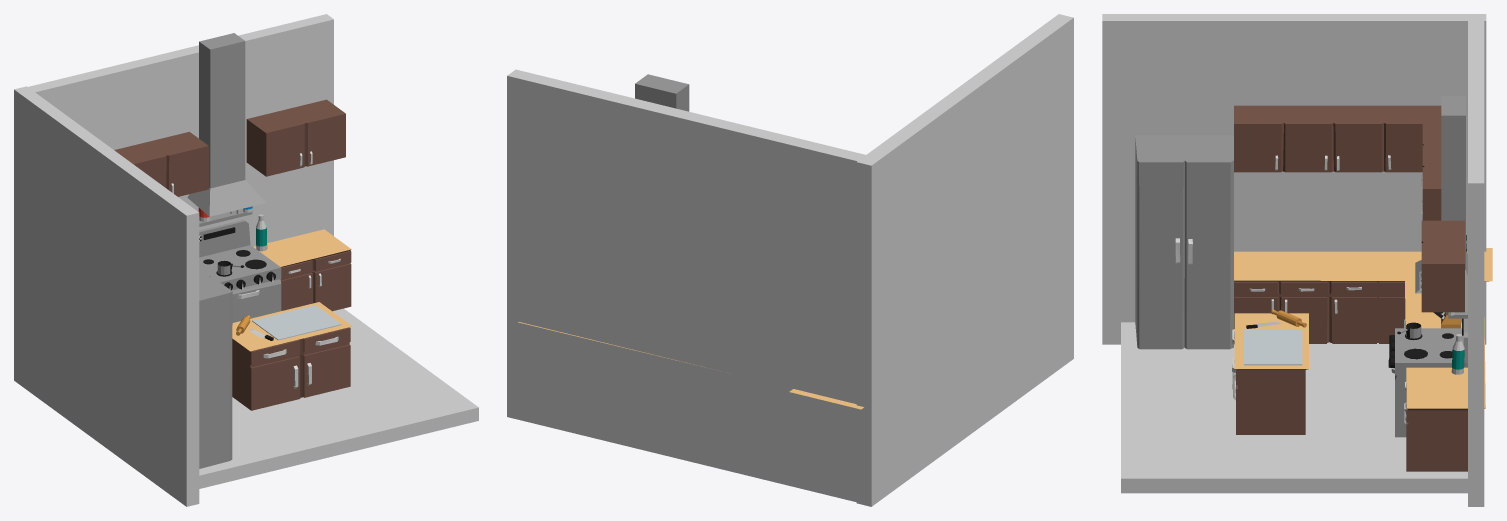
Rendered from Jerad Bitner's polykitchen.fbx.
3 renders of one model, left to right at view 1: azimuth 30°, elevation 25°; view 2: azimuth 150°, elevation 25°; view 3: azimuth 270°, elevation 25°, orthographic. The views are drawn at different scales.
Visible parts, largest first — view 1: mesh_9585808, mesh_1810159463, mesh_107145946, mesh_1348253054, mesh_1000109285, mesh_536980032, mesh_384672652, mesh_1142142446, mesh_900006215, mesh_1955243732, mesh_1999118543; view 2: mesh_1810159463, mesh_9585808, mesh_1000109285; view 3: mesh_9585808, mesh_107145946, mesh_536980032, mesh_1913738476, mesh_2142097961, mesh_1810159463, mesh_1142142446, mesh_1348253054, mesh_384672652, mesh_1000109285, mesh_900006215, mesh_1999118543 (+2 smaller).
Boxes of the visible parts, x1,y1,x2,y2 form: mesh_9585808: [14, 86, 199, 506]; mesh_1810159463: [28, 14, 333, 246]; mesh_107145946: [199, 308, 478, 488]; mesh_1348253054: [232, 302, 352, 410]; mesh_1000109285: [187, 33, 265, 216]; mesh_536980032: [199, 267, 232, 468]; mesh_384672652: [246, 99, 345, 176]; mesh_1142142446: [253, 229, 351, 311]; mesh_900006215: [199, 219, 281, 322]; mesh_1955243732: [114, 131, 208, 196]; mesh_1999118543: [252, 305, 341, 340]; mesh_1810159463: [507, 69, 865, 502]; mesh_9585808: [856, 14, 1073, 506]; mesh_1000109285: [635, 74, 689, 111]; mesh_9585808: [1102, 14, 1486, 344]; mesh_107145946: [1121, 322, 1467, 493]; mesh_536980032: [1135, 135, 1233, 349]; mesh_1913738476: [1234, 248, 1492, 343]; mesh_2142097961: [1234, 105, 1441, 172]; mesh_1810159463: [1468, 21, 1484, 506]; mesh_1142142446: [1404, 273, 1485, 471]; mesh_1348253054: [1234, 313, 1308, 434]; mesh_384672652: [1421, 220, 1464, 312]; mesh_1000109285: [1415, 96, 1467, 293]; mesh_900006215: [1395, 318, 1467, 437]; mesh_1999118543: [1244, 330, 1302, 365].
Size of the model in its own units: 195 by 181 by 190.
